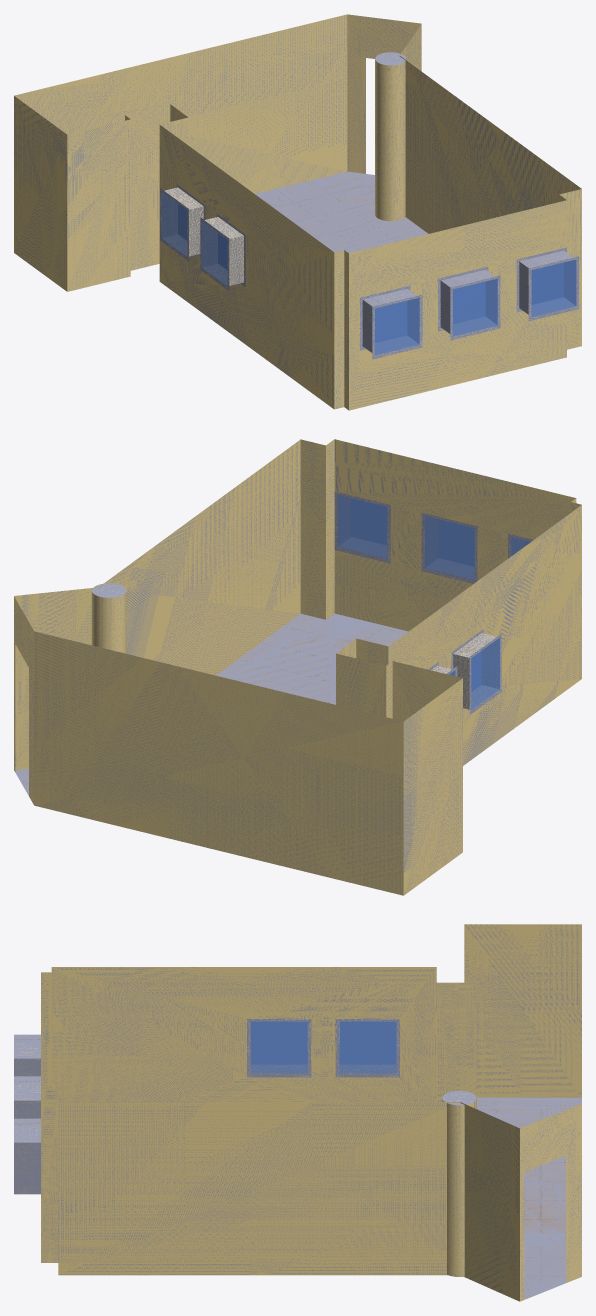
File: LAB054.obj
3 renders of one model, top to bottom at view 1: azimuth 30°, elevation 25°; view 2: azimuth 150°, elevation 25°; view 3: azimuth 270°, elevation 25°, orthographic. The views are drawn at different scales.
Visible parts, largest first — view 1: Mesh24 LAB054 Model, Mesh1 Group1 LAB054 Model, Mesh20 Group6 LAB054 Model, Mesh8 Group3 LAB054 Model, Mesh12 Group4 LAB054 Model, Mesh4 Group2 LAB054 Model, Mesh16 Group5 LAB054 Model; view 2: Mesh24 LAB054 Model, Mesh20 Group6 LAB054 Model, Mesh12 Group4 LAB054 Model, Mesh4 Group2 LAB054 Model, Mesh1 Group1 LAB054 Model; view 3: Mesh24 LAB054 Model, Mesh4 Group2 LAB054 Model, Mesh16 Group5 LAB054 Model, Mesh1 Group1 LAB054 Model, Mesh20 Group6 LAB054 Model, Mesh8 Group3 LAB054 Model, Mesh12 Group4 LAB054 Model.
Boxes of the visible parts, bbox=[...] form: Mesh24 LAB054 Model: bbox=[14, 14, 581, 410]; Mesh1 Group1 LAB054 Model: bbox=[375, 52, 406, 221]; Mesh20 Group6 LAB054 Model: bbox=[516, 247, 579, 321]; Mesh8 Group3 LAB054 Model: bbox=[360, 285, 422, 359]; Mesh12 Group4 LAB054 Model: bbox=[438, 266, 500, 340]; Mesh4 Group2 LAB054 Model: bbox=[200, 213, 245, 290]; Mesh16 Group5 LAB054 Model: bbox=[160, 184, 205, 261]; Mesh24 LAB054 Model: bbox=[14, 439, 581, 895]; Mesh20 Group6 LAB054 Model: bbox=[334, 491, 390, 563]; Mesh12 Group4 LAB054 Model: bbox=[421, 513, 477, 583]; Mesh4 Group2 LAB054 Model: bbox=[451, 629, 501, 714]; Mesh1 Group1 LAB054 Model: bbox=[91, 583, 126, 653]; Mesh24 LAB054 Model: bbox=[41, 924, 581, 1301]; Mesh4 Group2 LAB054 Model: bbox=[247, 1019, 311, 1077]; Mesh16 Group5 LAB054 Model: bbox=[335, 1019, 399, 1077]; Mesh1 Group1 LAB054 Model: bbox=[442, 1090, 476, 1276]; Mesh20 Group6 LAB054 Model: bbox=[14, 1118, 40, 1194]; Mesh8 Group3 LAB054 Model: bbox=[14, 1034, 40, 1076]; Mesh12 Group4 LAB054 Model: bbox=[14, 1076, 40, 1118].
Bounding box in the file's own units: 7.59 × 3 × 8.92.
Materials: 6 (2 with a texture image).
